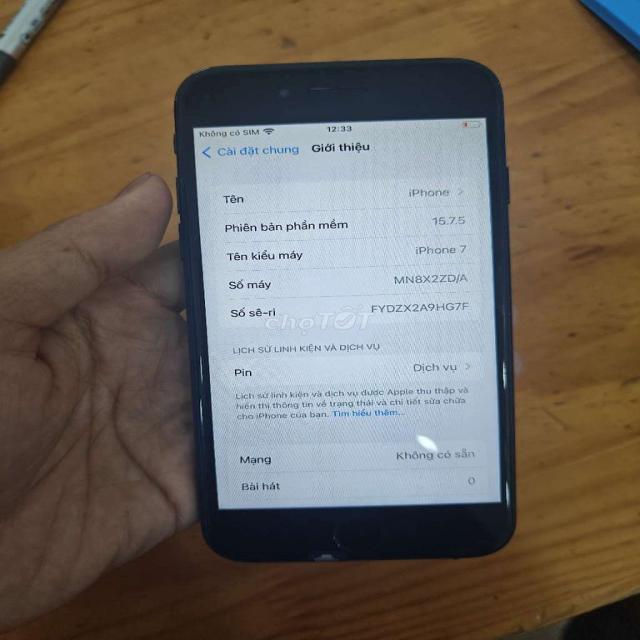gen_7_8: (167, 51, 525, 569)
scratch: (179, 349, 213, 382), (178, 58, 221, 78), (185, 396, 212, 427), (493, 356, 514, 393), (498, 472, 515, 508)
